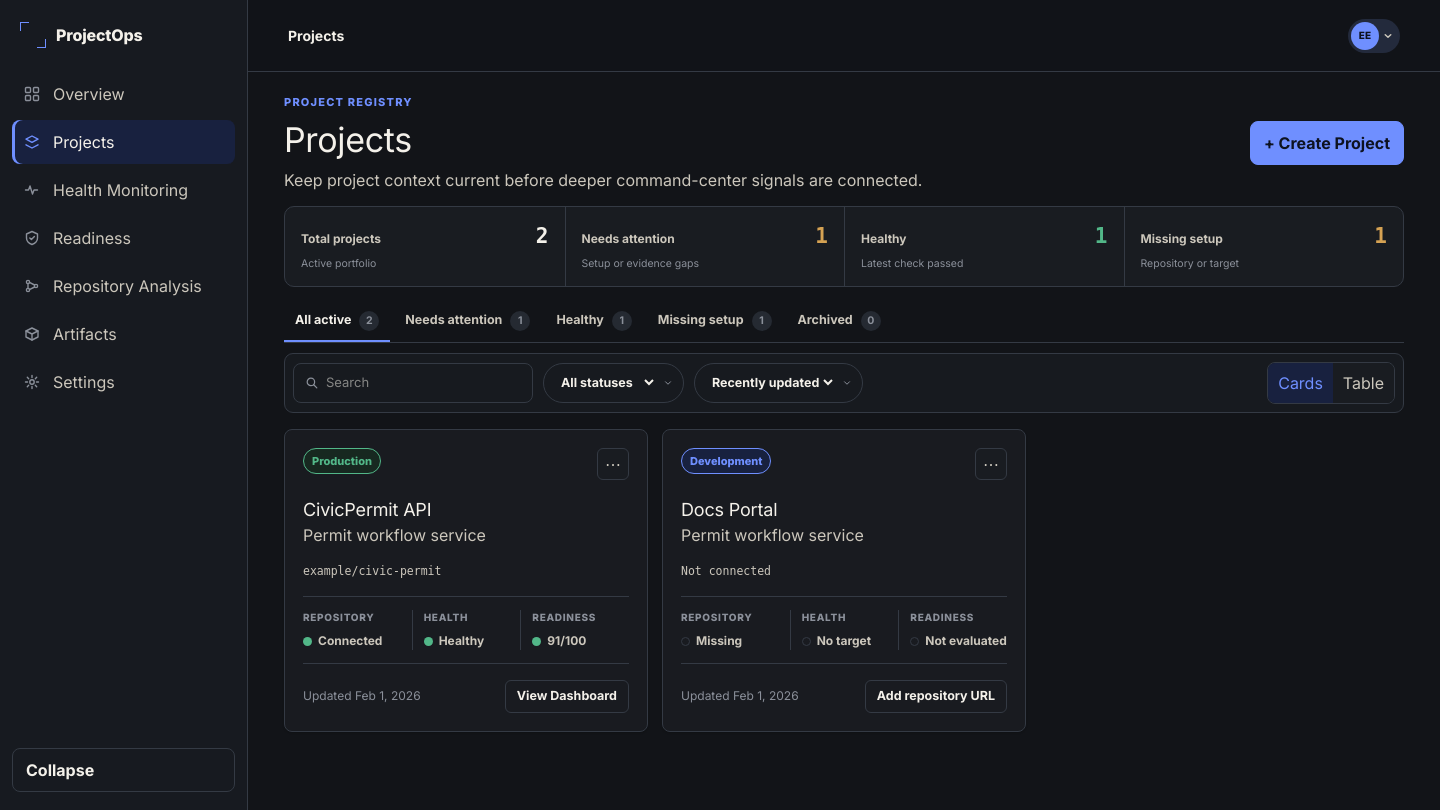
Scenario: Project Registry › shows loaded Projects, filters them, and changes view
The width and height of the screenshot is (1440, 810).
Expected: the link "CivicPermit API" is shown, [303,499,431,520]
Expected: the text "Total projects" shows "2", [536,224,548,248]
Click the button "Needs attention 1" at (468, 321), box [394,301,541,342]
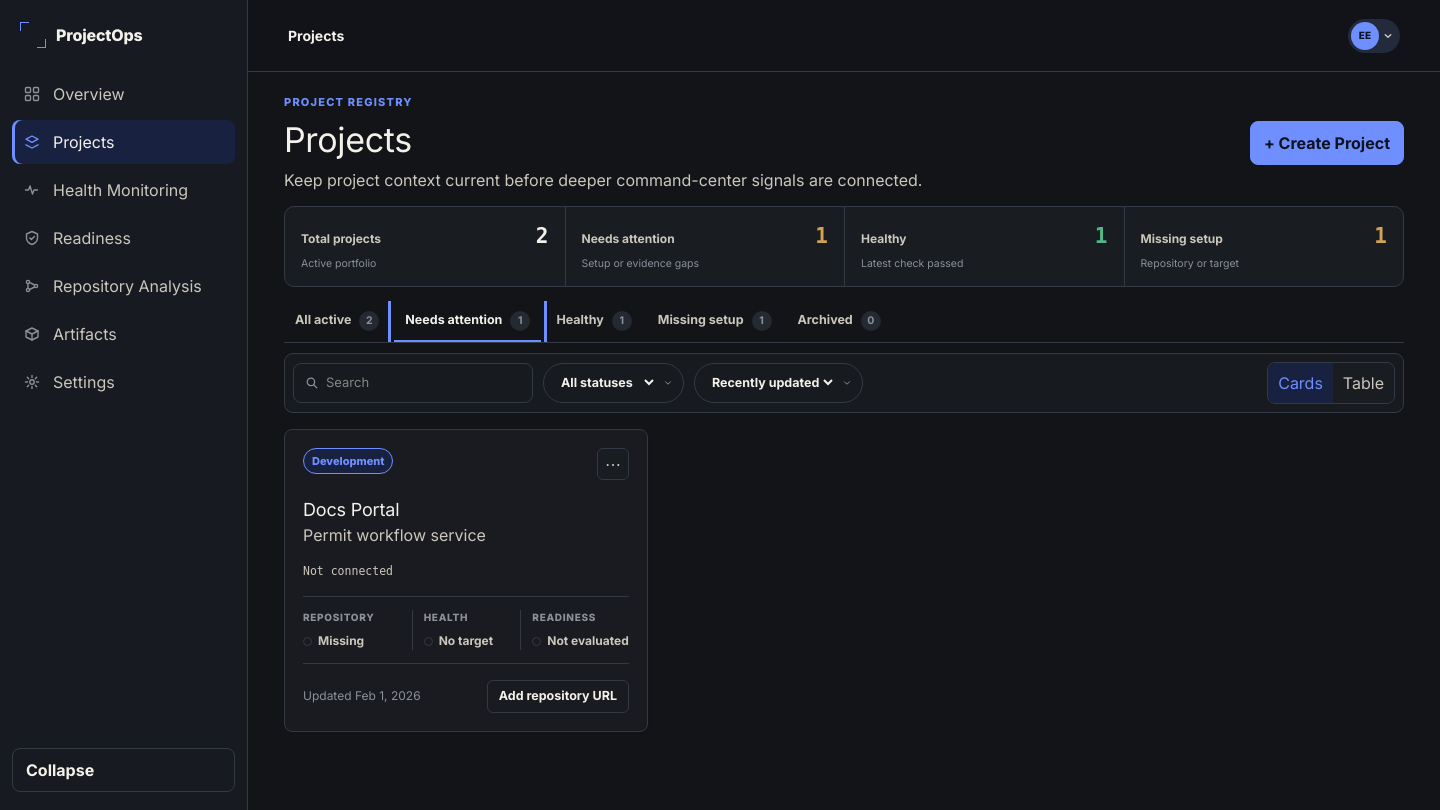
Expected: the link "Docs Portal" is shown, [303,499,399,520]
Now the link "CivicPermit API" is gone
Click the button "All active 2" at (337, 321), box [284,301,390,342]
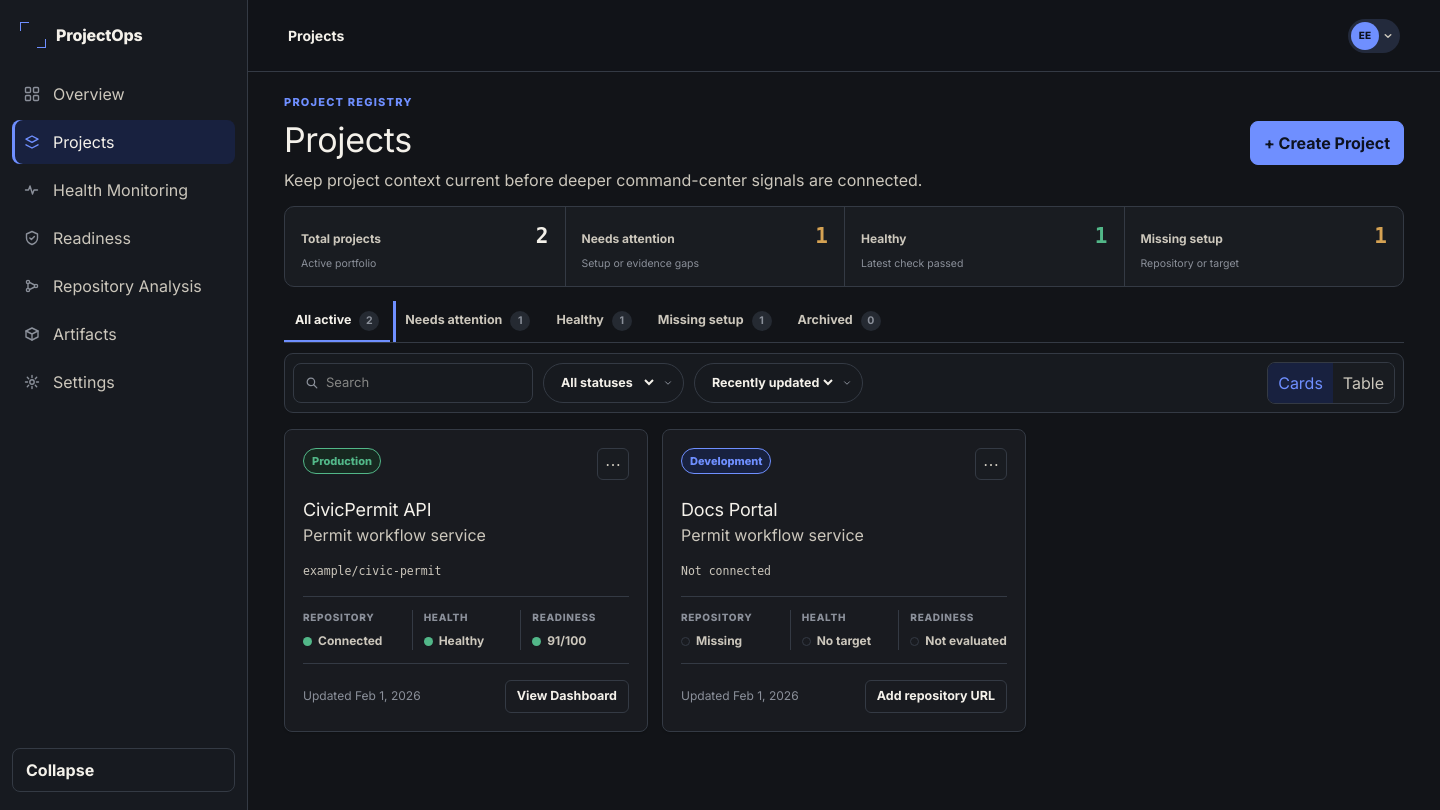
Click the button "Table" at (1363, 383), box [1333,363,1394,403]
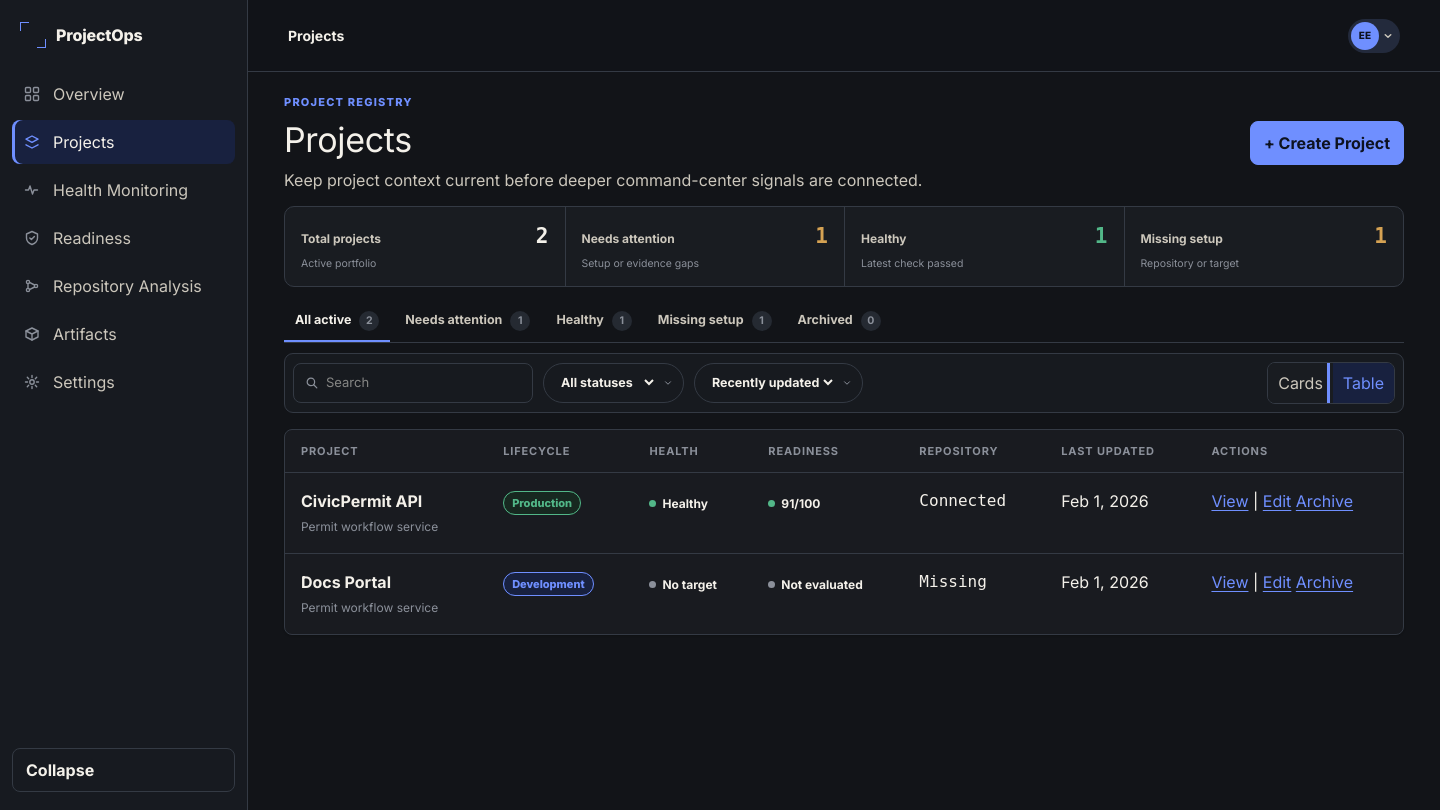
Now the table is shown, box [285,430,1403,634]
Type "no match" into the field named "Search Projects" at (424, 383), box [326,364,521,402]
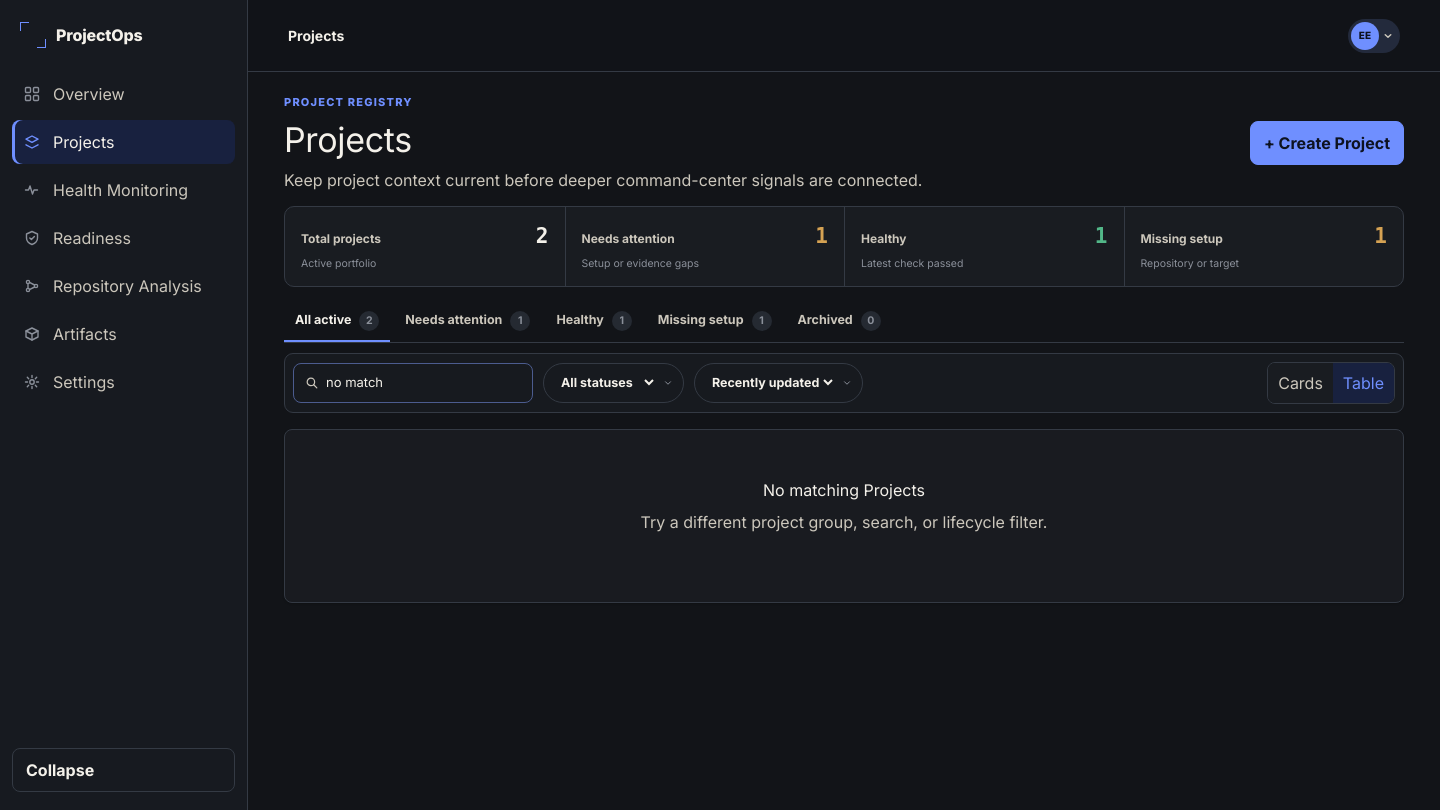
Now the heading "No matching Projects" is shown, box [763,480,925,500]
